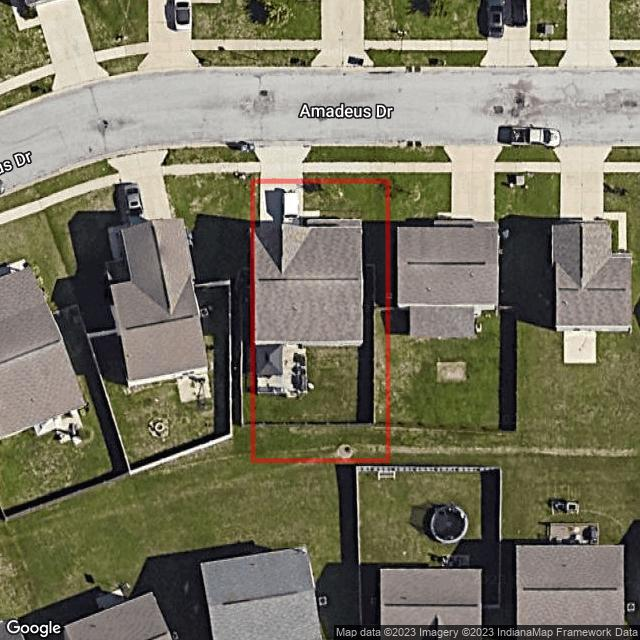Driveway: (260, 184, 320, 226)
Extra Driveway: (253, 145, 312, 179)
Extra Lawn: (303, 146, 391, 162), (303, 173, 390, 179), (249, 144, 260, 162), (250, 172, 260, 179)
Extra Sidewalk: (303, 162, 389, 173)
House: (255, 219, 363, 397)
Other: (336, 444, 354, 459)
